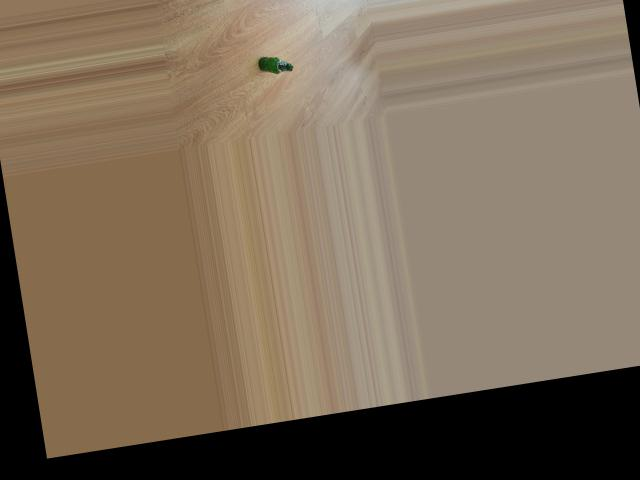beer: (257, 51, 293, 76)
